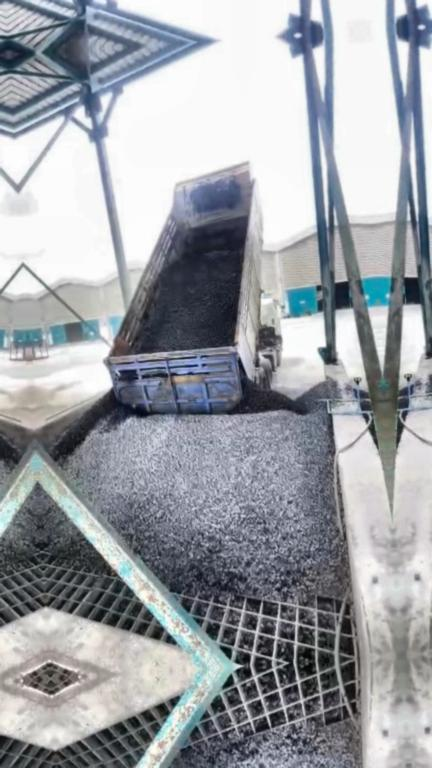gravel: (51, 373, 354, 605), (136, 220, 246, 351), (39, 487, 97, 566)
sand: (31, 381, 82, 426)
